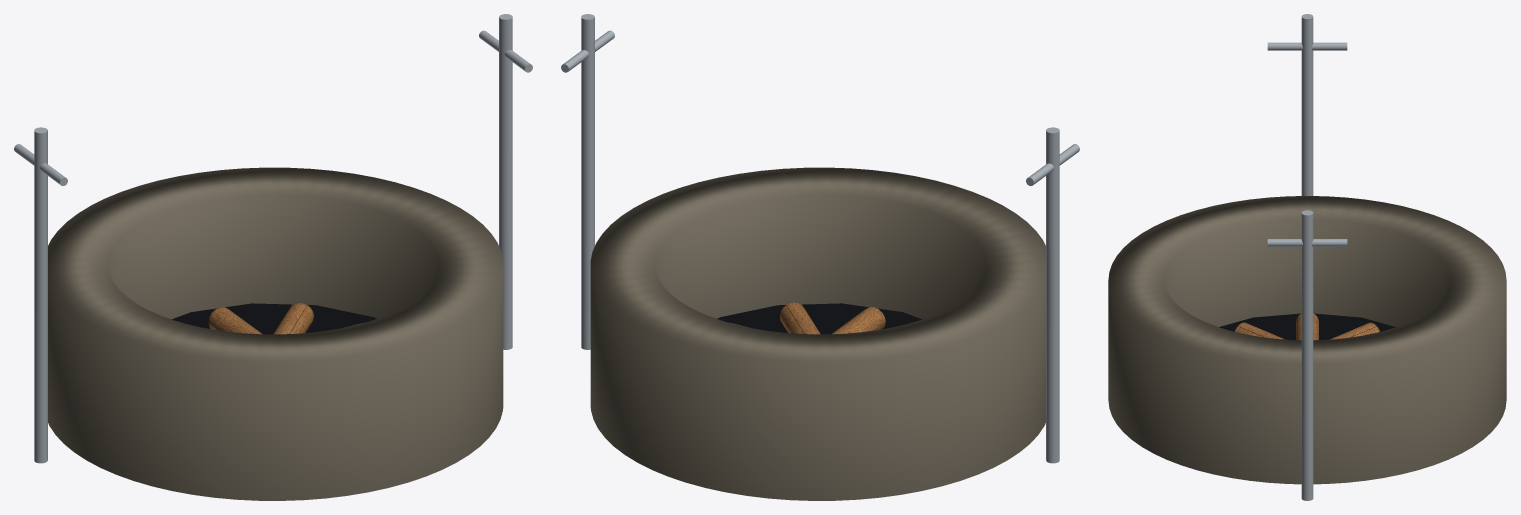
Rendered from Szalonnasuto.obj.
3 renders of one model, left to right at view 1: azimuth 30°, elevation 25°; view 2: azimuth 150°, elevation 25°; view 3: azimuth 270°, elevation 25°, orthographic. The views are drawn at different scales.
Bounding box in the file's own units: 1.44 × 0.95 × 1.2.
4 materials, 1 textured.
